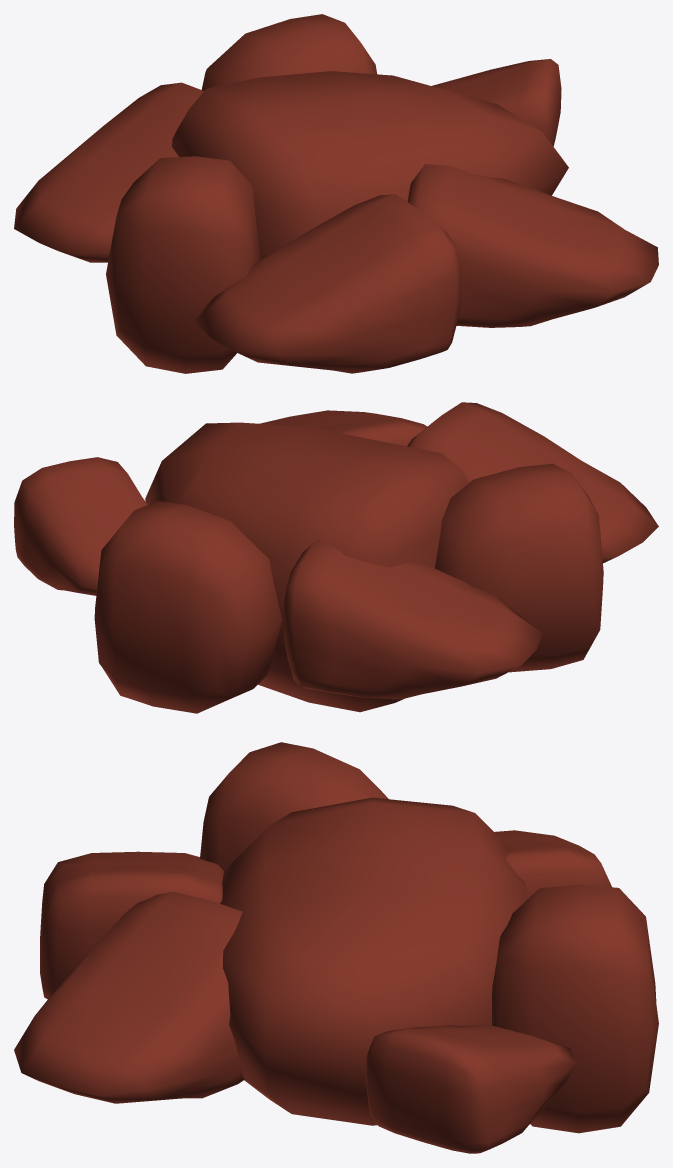
Rendered from rocks_move.fbx.
3 views of the same model, one above another, from view 1: azimuth 30°, elevation 25°; view 2: azimuth 150°, elevation 25°; view 3: azimuth 270°, elevation 25° (orthographic). The views are drawn at different scales.
Visible parts, largest first — view 1: rock_01; view 2: rock_01; view 3: rock_01.
Boxes of the visible parts, x1=… form: rock_01: x1=14, y1=14, x2=658, y2=373; rock_01: x1=14, y1=402, x2=658, y2=713; rock_01: x1=14, y1=742, x2=658, y2=1153.
Size of the model in its own units: 99.67 by 41.49 by 91.96.
